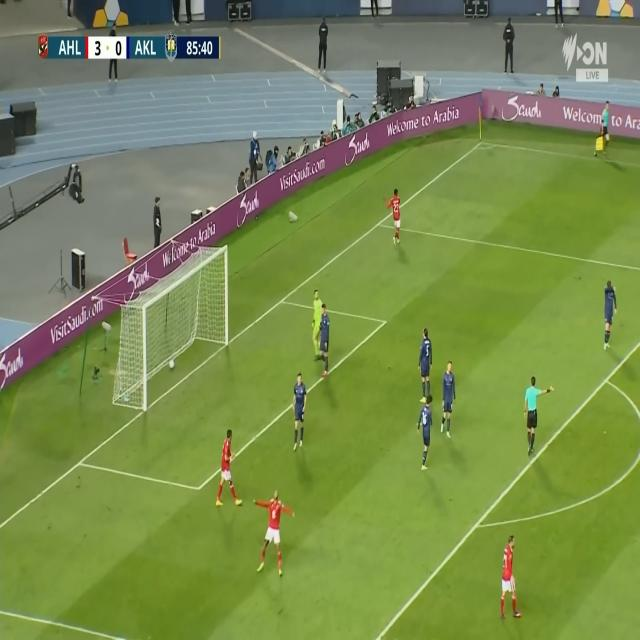Ball: (167, 358, 175, 371)
Keeper: (310, 289, 326, 358)
Player: (254, 490, 296, 580), (214, 424, 242, 512), (500, 535, 522, 620), (415, 327, 434, 403), (600, 276, 619, 352), (417, 397, 434, 475), (440, 361, 456, 440), (386, 191, 404, 246), (293, 372, 305, 449), (320, 307, 332, 375)
Ref: (524, 375, 556, 460), (596, 99, 610, 163)
